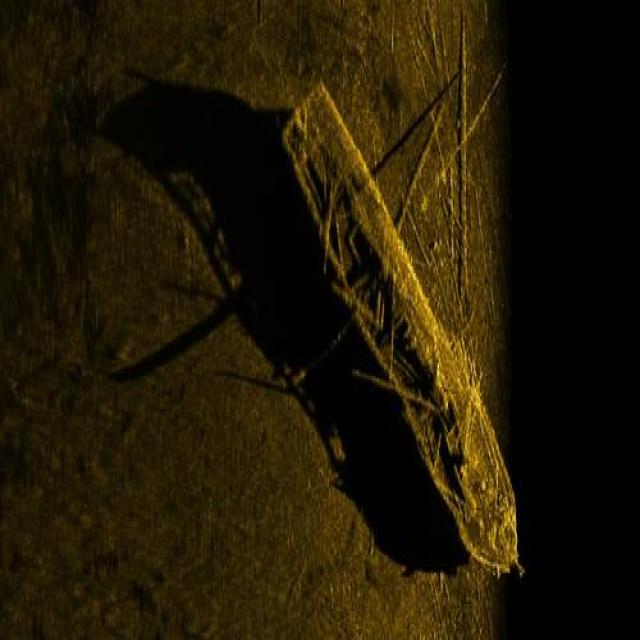ship: (278, 69, 532, 584)
